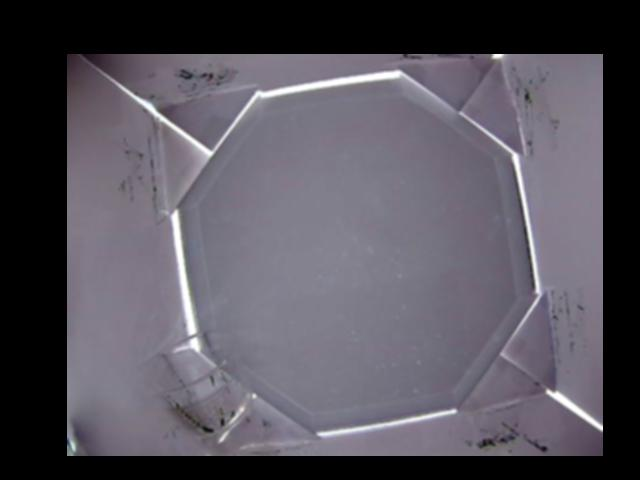Cup: (139, 327, 249, 455)
